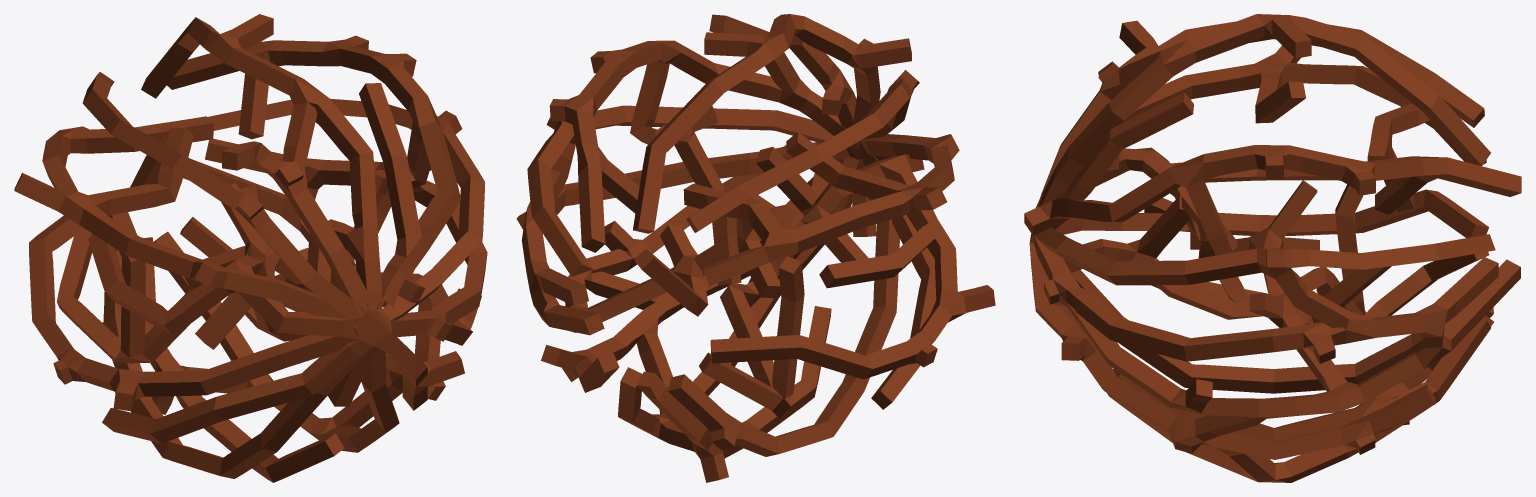
File: Tumbleweed_V01.fbx
3 views of the same model, side by side, from view 1: azimuth 30°, elevation 25°; view 2: azimuth 150°, elevation 25°; view 3: azimuth 270°, elevation 25° (orthographic). The views are drawn at different scales.
Parts seen in each view (by area): view 1: Tumbleweed_V01; view 2: Tumbleweed_V01; view 3: Tumbleweed_V01.
Part boxes in pixels (box(x1,y1,x2,y2)): Tumbleweed_V01: box(14, 14, 487, 482); Tumbleweed_V01: box(516, 14, 995, 482); Tumbleweed_V01: box(1024, 14, 1521, 482).
Size of the model in its own units: 113 by 105 by 112.
